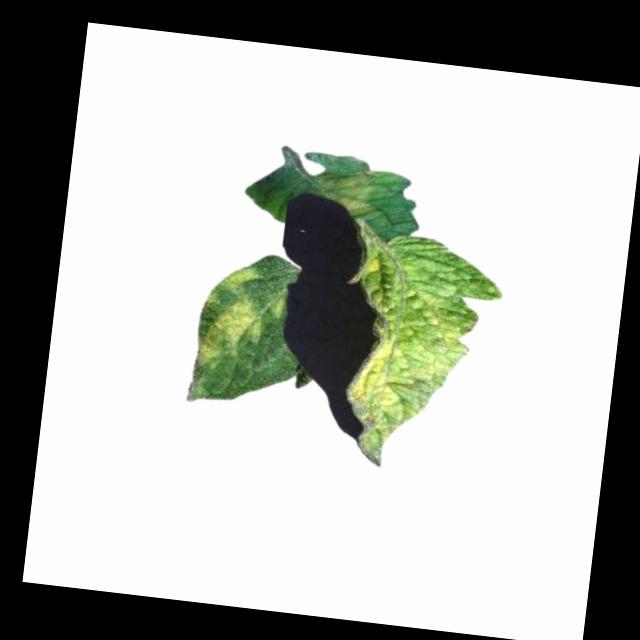Leaf_Mold: (342, 303, 470, 436), (192, 259, 268, 373), (319, 168, 376, 215)
